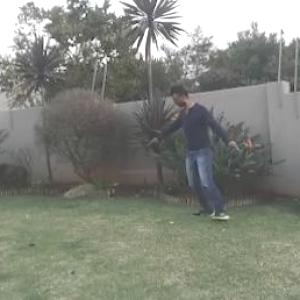land: (127, 70, 265, 240)
